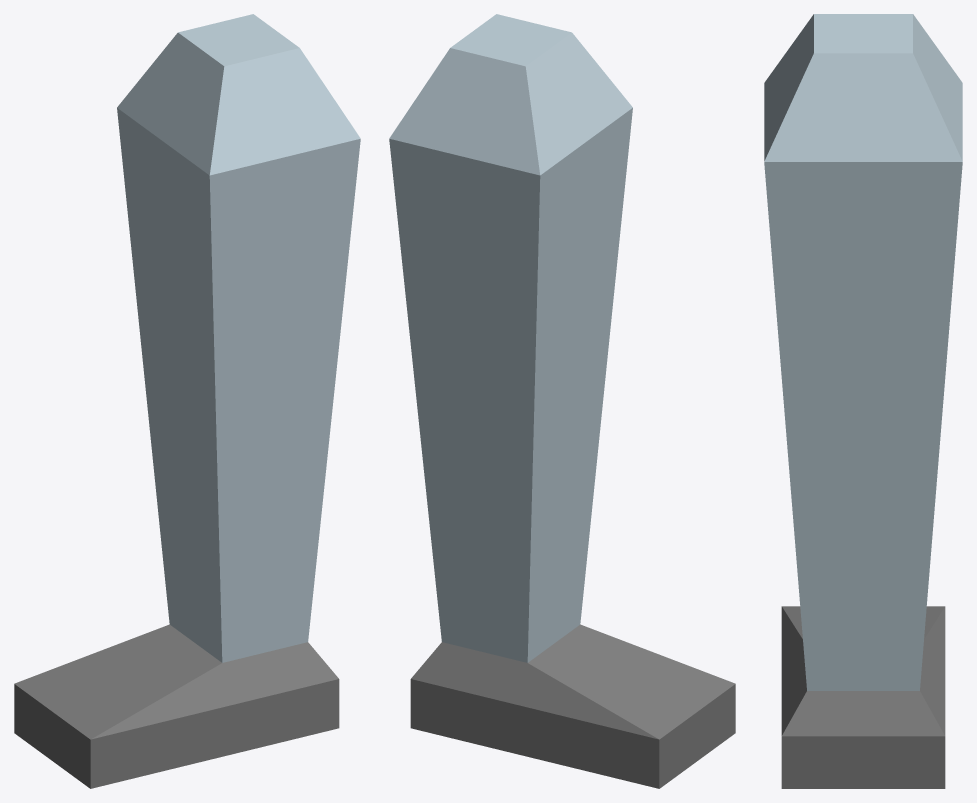
The model's file is StrongMutantLowerLeg.fbx.
The picture shows the model from 3 angles, left to right: view 1: azimuth 30°, elevation 25°; view 2: azimuth 150°, elevation 25°; view 3: azimuth 270°, elevation 25°; orthographic projection. The views are drawn at different scales.
Parts seen in each view (by area): view 1: StrongMutantLowerLeg; view 2: StrongMutantLowerLeg; view 3: StrongMutantLowerLeg.
Boxes of the visible parts, x1,y1,x2,y2 form: StrongMutantLowerLeg: [14, 14, 360, 788]; StrongMutantLowerLeg: [389, 14, 735, 788]; StrongMutantLowerLeg: [764, 14, 962, 788].
Bounding box in the file's own units: 0.272 × 0.6698 × 0.1668.
